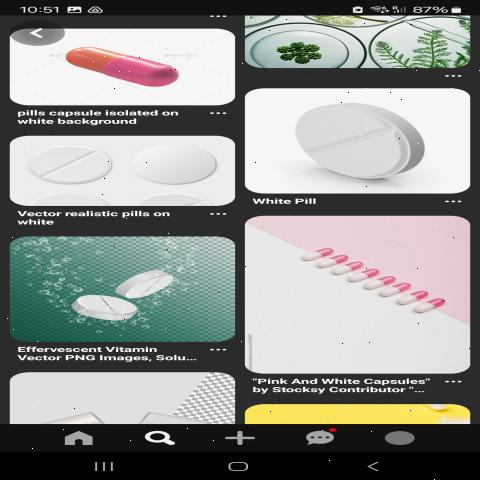Pill: (282, 100, 444, 188), (127, 137, 231, 201), (27, 143, 111, 192), (60, 291, 159, 328), (102, 270, 206, 300)
